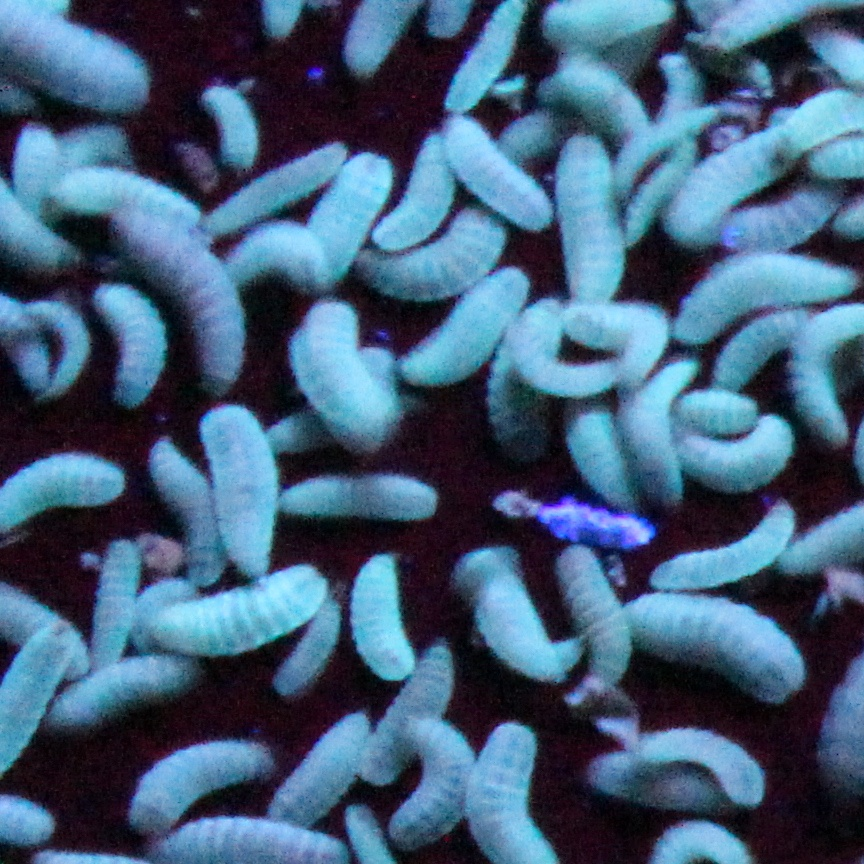larve: (116, 214, 251, 393), (441, 538, 588, 688), (617, 590, 807, 700), (399, 258, 540, 387), (147, 562, 335, 657), (284, 301, 396, 458), (115, 732, 275, 837), (676, 248, 847, 344), (646, 491, 807, 592), (199, 135, 352, 236), (667, 121, 784, 251), (268, 709, 382, 842), (437, 113, 552, 242), (365, 636, 461, 790), (196, 401, 280, 576), (354, 200, 510, 294), (549, 134, 626, 315), (49, 636, 195, 730), (618, 717, 776, 803), (385, 708, 478, 848), (551, 542, 636, 692), (303, 152, 392, 290), (535, 64, 661, 161), (143, 432, 224, 580), (651, 415, 801, 490), (368, 121, 457, 246), (619, 361, 699, 499), (435, 1, 530, 114), (91, 280, 168, 418), (346, 549, 418, 681), (58, 169, 199, 230), (273, 471, 438, 523), (76, 540, 136, 660), (195, 80, 265, 176), (569, 295, 671, 353), (651, 390, 763, 434)
